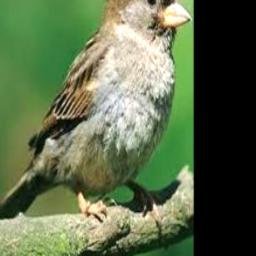Sparrow: (0, 0, 192, 228)
